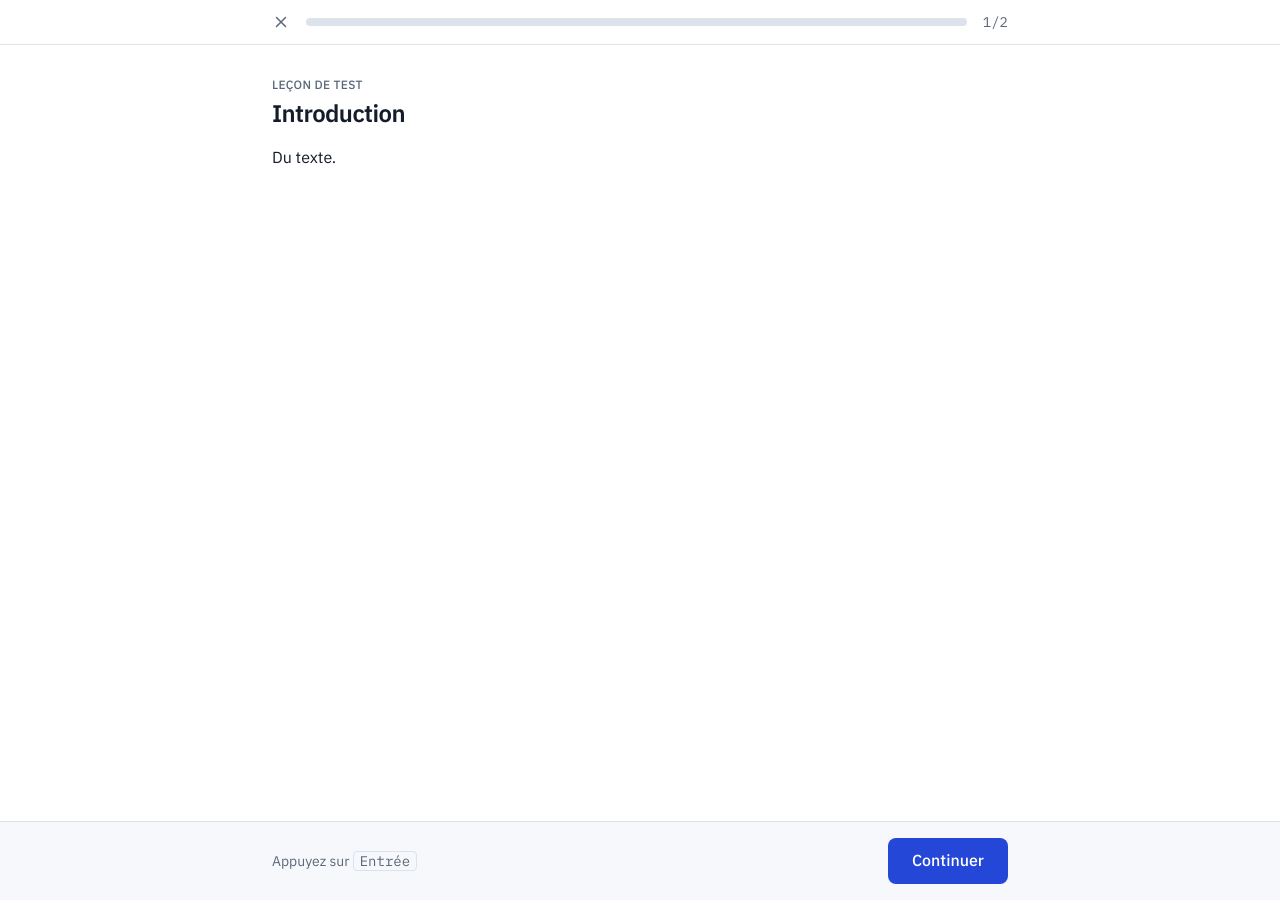
Test: LessonPlayer › walks explanation -> exercise -> feedback -> summary using Enter
expect the heading "Introduction" is shown: met, box [272,97,405,129]
Step 1. Press Enter
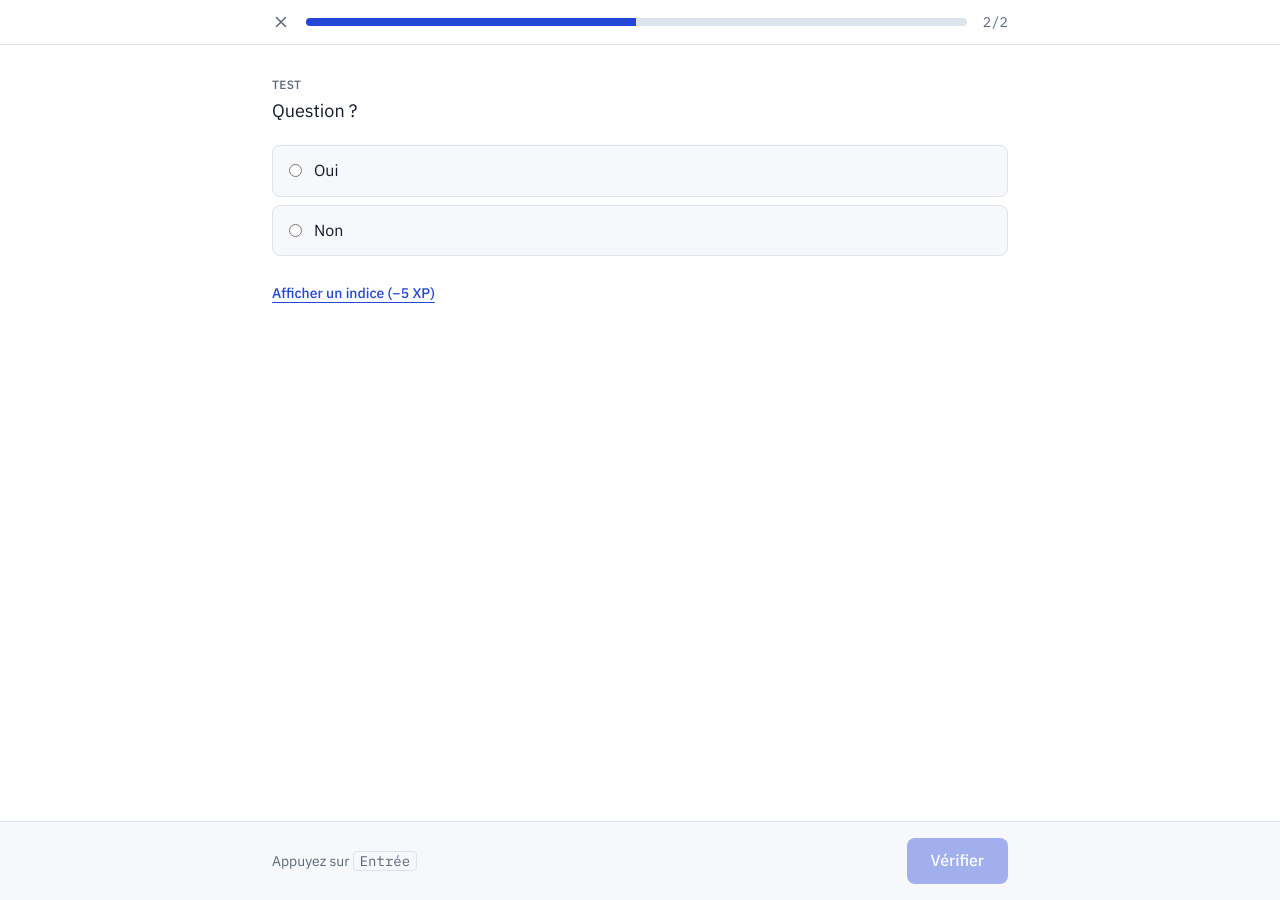
Step 2. Click the radio button labelled "Oui" → coordinates (296, 170), box [289,164,302,177]
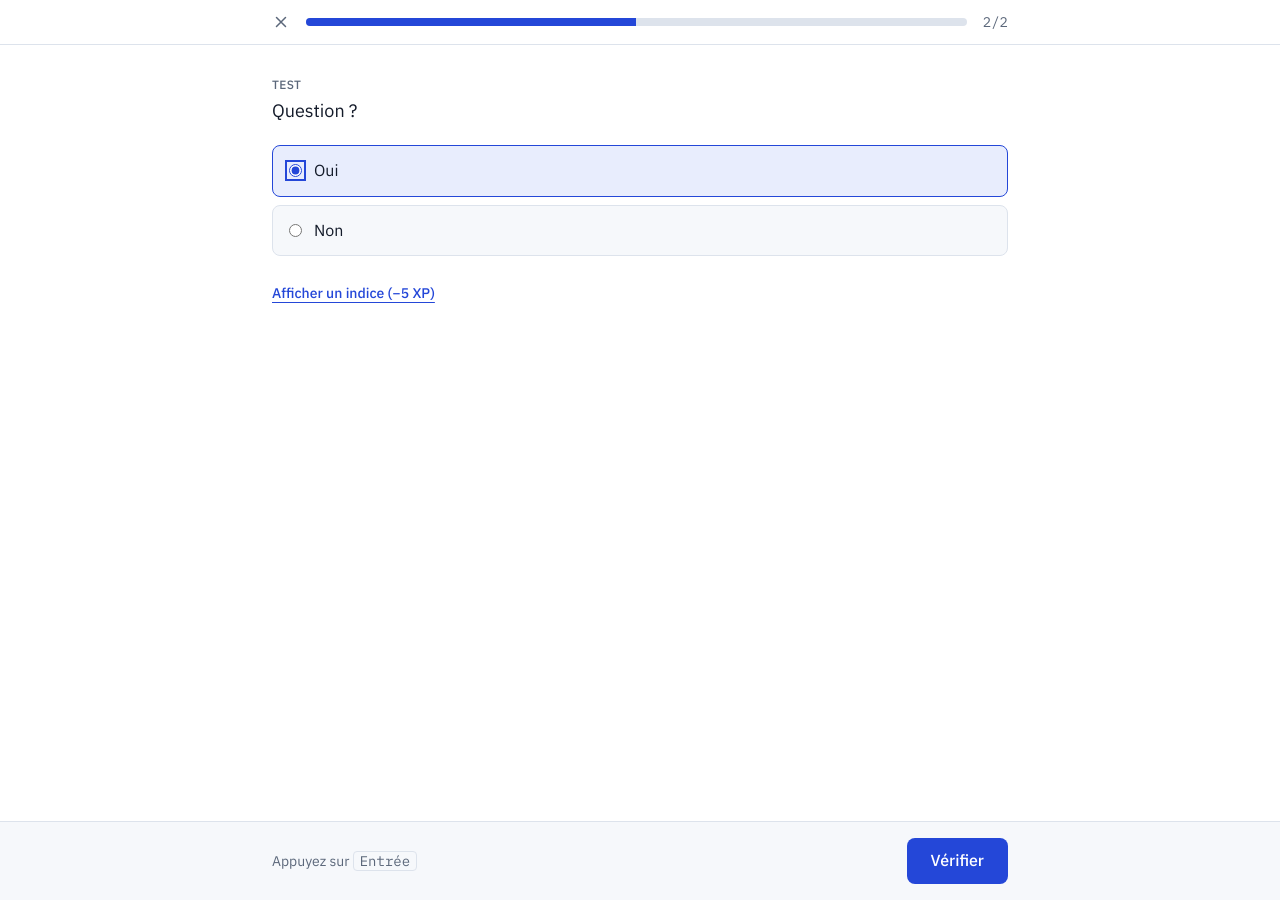
Step 3. Press Enter
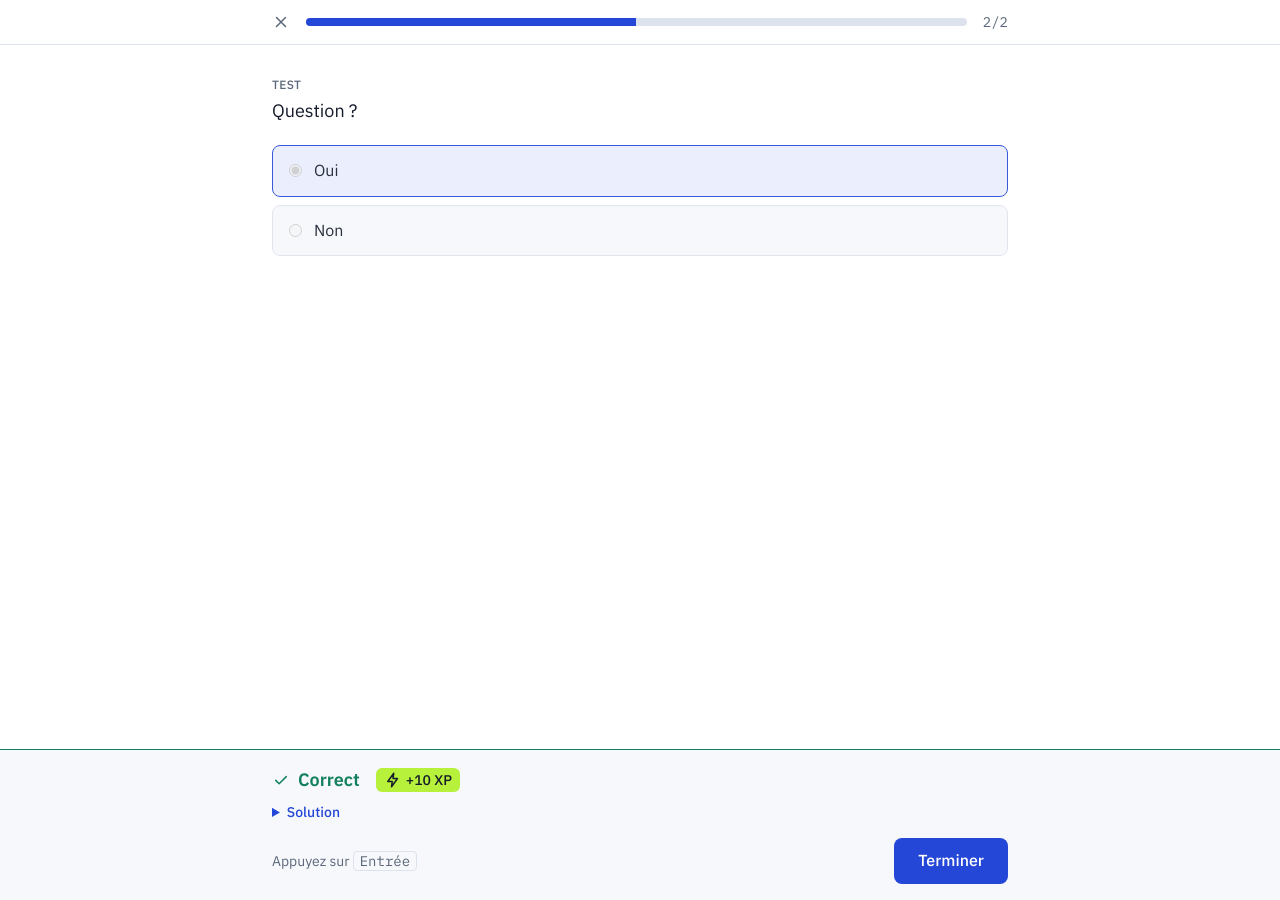
expect the text "Correct" is shown: met, box [298,768,360,791]
expect the text "+10 XP" is shown: met, box [376,768,460,792]
Step 4. Press Enter
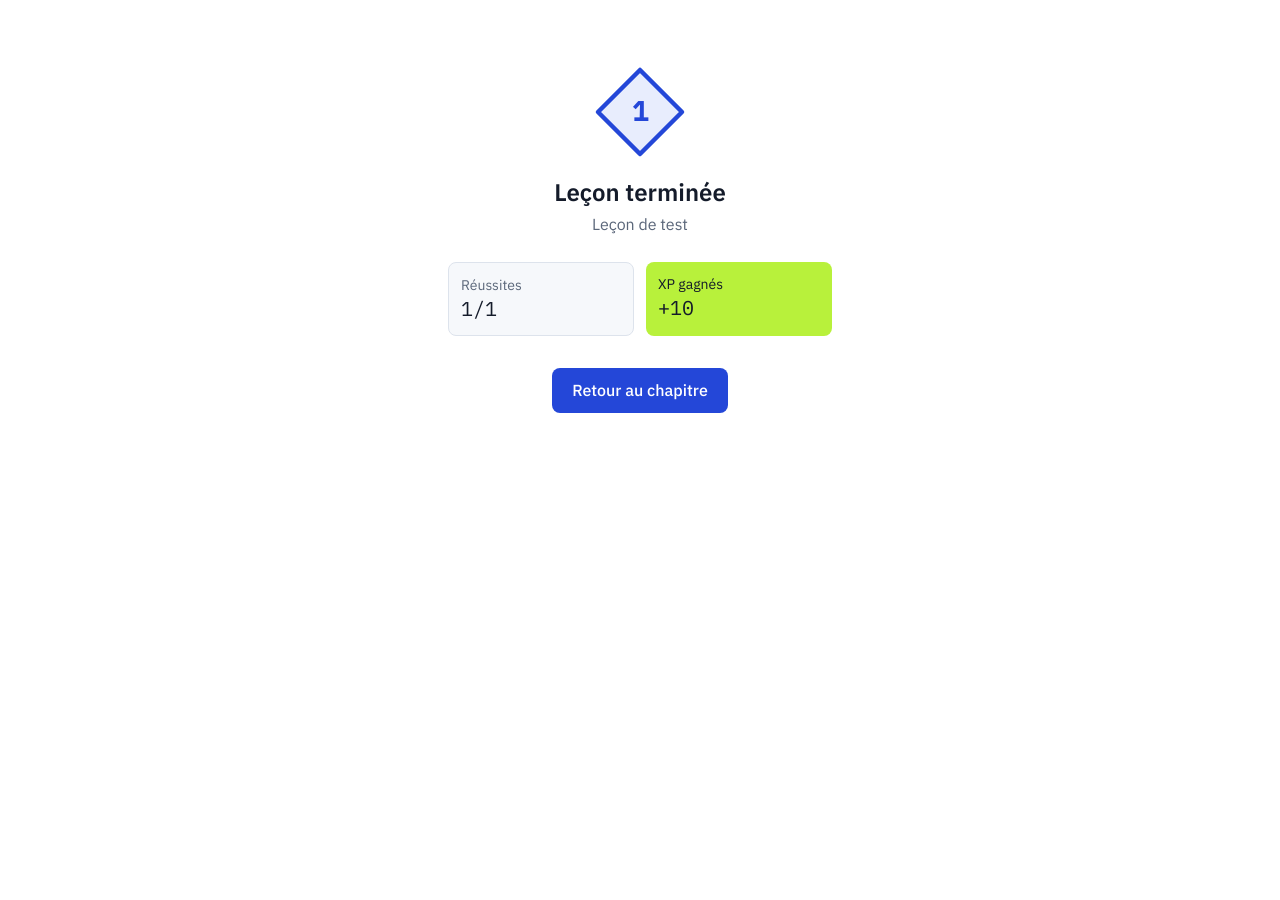
expect the text "+10" is shown: met, box [658,294,694,321]
expect the heading "Leçon terminée" is shown: met, box [554,176,726,208]
